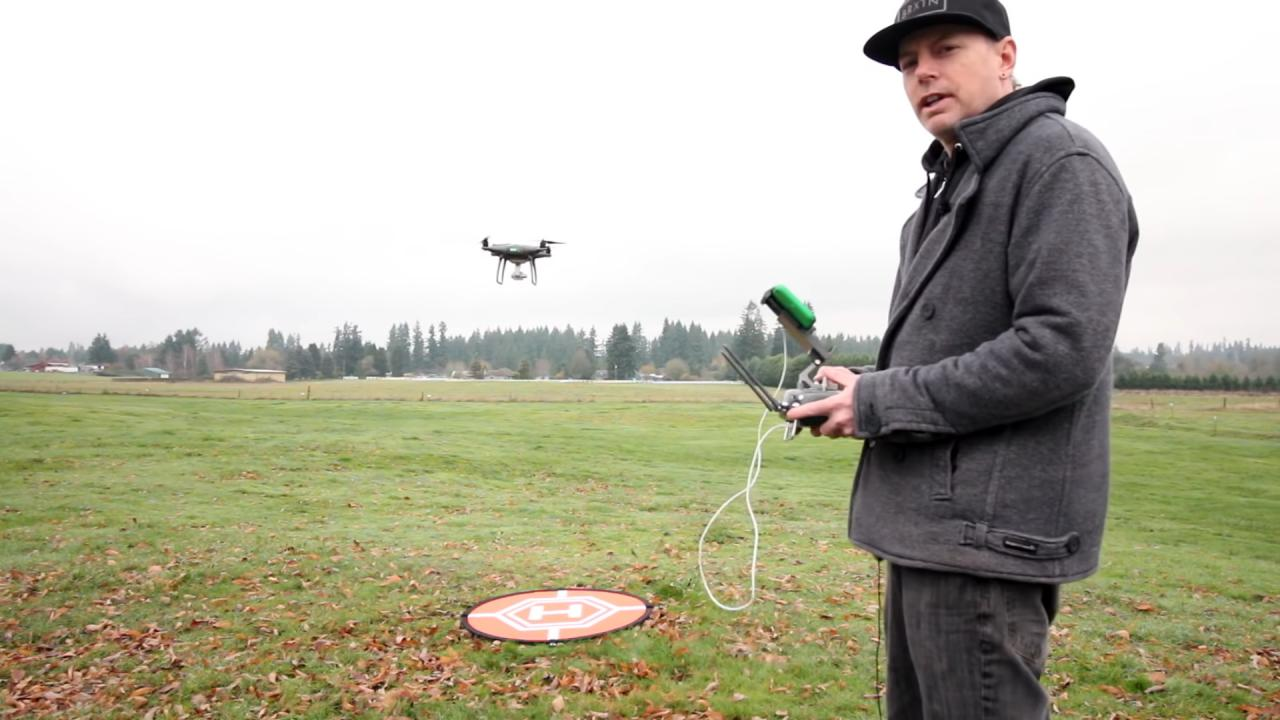Drone: (474, 230, 571, 291)
